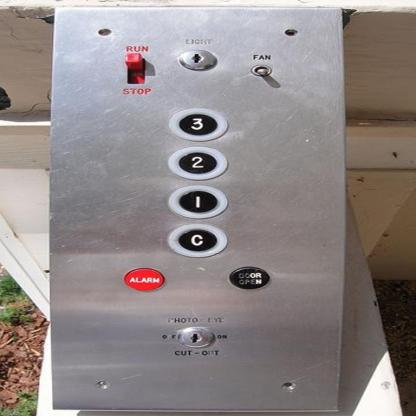1: (165, 184, 228, 219)
2: (165, 146, 228, 180)
3: (165, 107, 228, 141)
C: (166, 223, 226, 256)
keyhole: (174, 326, 218, 352), (176, 48, 217, 71)
switch: (115, 51, 151, 88), (245, 61, 276, 80)
text: (122, 266, 166, 292), (227, 266, 270, 290)
